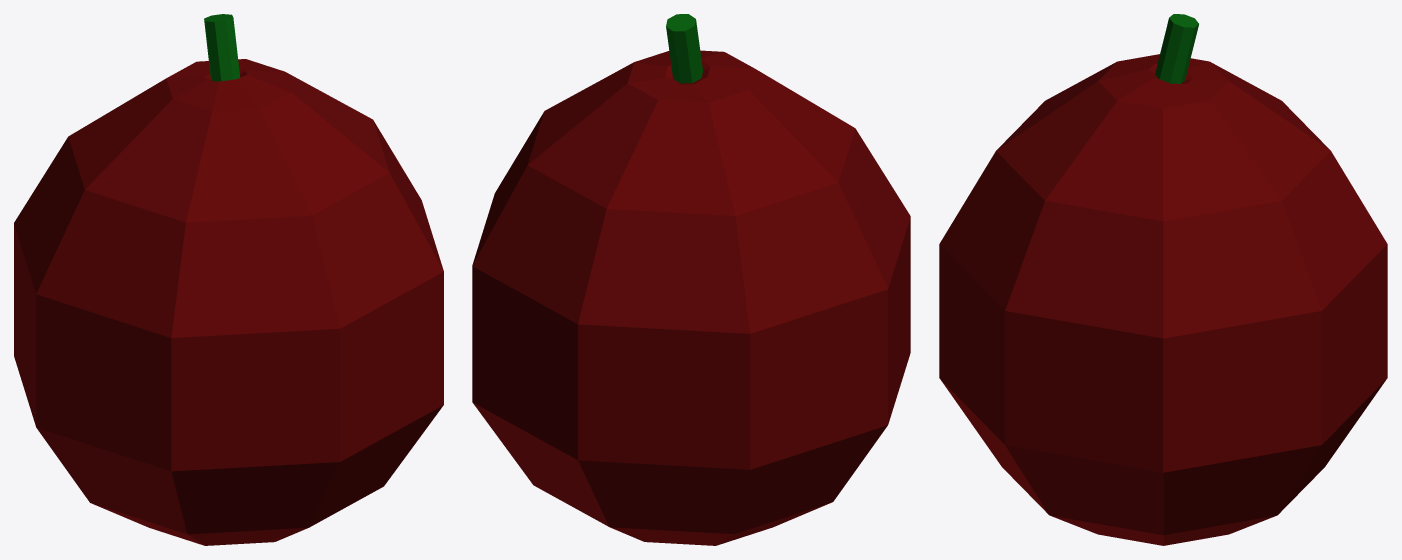
The model's file is passionfruit01.obj.
The picture shows the model from 3 angles, left to right: view 1: azimuth 30°, elevation 25°; view 2: azimuth 150°, elevation 25°; view 3: azimuth 270°, elevation 25°; orthographic projection. The views are drawn at different scales.
Visible parts, largest first — view 1: Cylinder; view 2: Cylinder; view 3: Cylinder.
Boxes of the visible parts, <box> form: Cylinder: <box>14,14,443,545</box>; Cylinder: <box>472,14,910,545</box>; Cylinder: <box>939,14,1387,545</box>.
Bounding box in the file's own units: 0.0554 × 0.0667 × 0.0554.
1 material, 1 textured.
